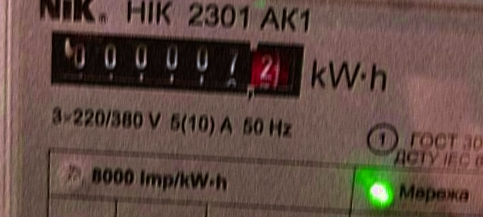0: (100, 42, 119, 72), (130, 43, 150, 71), (69, 42, 88, 70), (192, 44, 210, 73), (162, 43, 179, 71)
2: (256, 53, 274, 83)
7: (222, 47, 240, 78)
screen: (38, 18, 316, 110)
